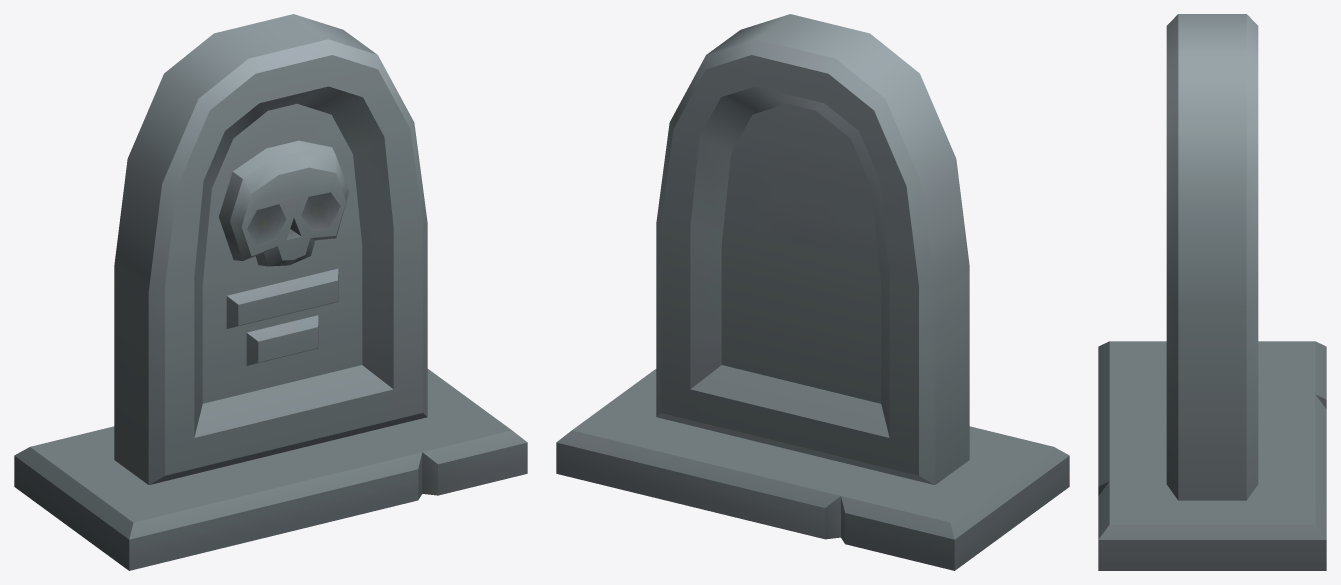
File: kay-cova.gltf
3 renders of one model, left to right at view 1: azimuth 30°, elevation 25°; view 2: azimuth 150°, elevation 25°; view 3: azimuth 270°, elevation 25°, orthographic.
Visible parts, largest first — view 1: grave_A; view 2: grave_A; view 3: grave_A.
Part boxes in pixels (x1,y1,x2,y2): grave_A: (14,14,527,570); grave_A: (556,14,1069,570); grave_A: (1098,14,1326,570).
Bounding box in the file's own units: 1 × 1.06 × 0.4999.
Materials: 1 (1 with a texture image).
